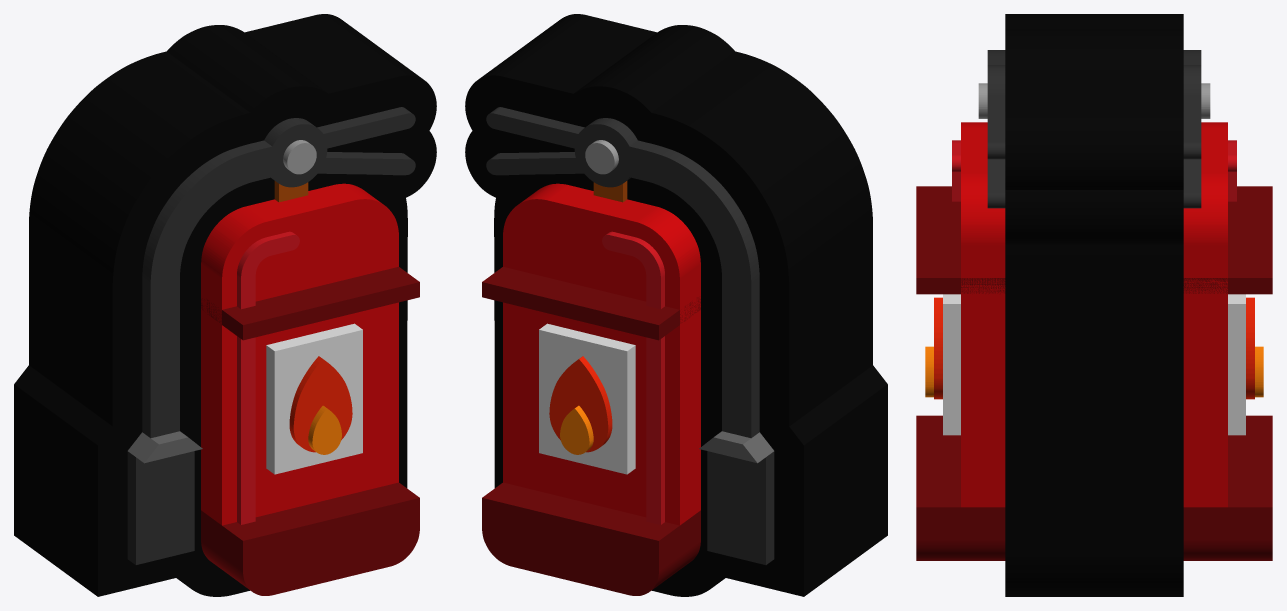
3 renders of one model, left to right at view 1: azimuth 30°, elevation 25°; view 2: azimuth 150°, elevation 25°; view 3: azimuth 270°, elevation 25°, orthographic. The views are drawn at different scales.
Parts seen in each view (by area): view 1: U+1F9EF_layer00_obj00, U+1F9EF_layer05_obj00, U+1F9EF_layer02_obj00, U+1F9EF_layer10_obj00, U+1F9EF_layer07_obj00, U+1F9EF_layer06_obj00, U+1F9EF_layer08_obj00, U+1F9EF_layer04_obj00, U+1F9EF_layer09_obj00, U+1F9EF_layer03_obj00; view 2: U+1F9EF_layer00_obj00, U+1F9EF_layer05_obj00, U+1F9EF_layer02_obj00, U+1F9EF_layer10_obj00, U+1F9EF_layer07_obj00, U+1F9EF_layer06_obj00, U+1F9EF_layer08_obj00, U+1F9EF_layer04_obj00, U+1F9EF_layer09_obj00, U+1F9EF_layer03_obj00; view 3: U+1F9EF_layer00_obj00, U+1F9EF_layer05_obj00, U+1F9EF_layer10_obj00, U+1F9EF_layer02_obj00, U+1F9EF_layer07_obj00, U+1F9EF_layer08_obj00, U+1F9EF_layer06_obj00, U+1F9EF_layer09_obj00, U+1F9EF_layer03_obj00.
Part boxes in pixels (x1,y1,x2,y2): U+1F9EF_layer00_obj00: (14,14,436,596); U+1F9EF_layer05_obj00: (201,183,398,525); U+1F9EF_layer02_obj00: (127,107,415,564); U+1F9EF_layer10_obj00: (201,267,419,595); U+1F9EF_layer07_obj00: (266,323,362,474); U+1F9EF_layer06_obj00: (237,231,299,524); U+1F9EF_layer08_obj00: (289,356,352,452); U+1F9EF_layer04_obj00: (128,431,202,463); U+1F9EF_layer09_obj00: (308,405,341,454); U+1F9EF_layer03_obj00: (283,140,316,174); U+1F9EF_layer00_obj00: (465,14,887,596); U+1F9EF_layer05_obj00: (503,183,700,525); U+1F9EF_layer02_obj00: (486,107,774,564); U+1F9EF_layer10_obj00: (482,267,700,595); U+1F9EF_layer07_obj00: (539,323,635,474); U+1F9EF_layer06_obj00: (602,231,664,524); U+1F9EF_layer08_obj00: (549,356,612,452); U+1F9EF_layer04_obj00: (699,431,773,463); U+1F9EF_layer09_obj00: (560,405,593,454); U+1F9EF_layer03_obj00: (585,140,618,174); U+1F9EF_layer00_obj00: (1005,14,1183,596); U+1F9EF_layer05_obj00: (961,122,1227,507); U+1F9EF_layer10_obj00: (916,186,1272,560); U+1F9EF_layer02_obj00: (987,50,1201,208); U+1F9EF_layer07_obj00: (943,294,1245,435); U+1F9EF_layer08_obj00: (934,297,1254,399); U+1F9EF_layer06_obj00: (952,140,1236,201); U+1F9EF_layer09_obj00: (925,346,1263,397); U+1F9EF_layer03_obj00: (978,83,1210,118).
Size of the model in its own units: 0.4665 by 0.649 by 0.4.
